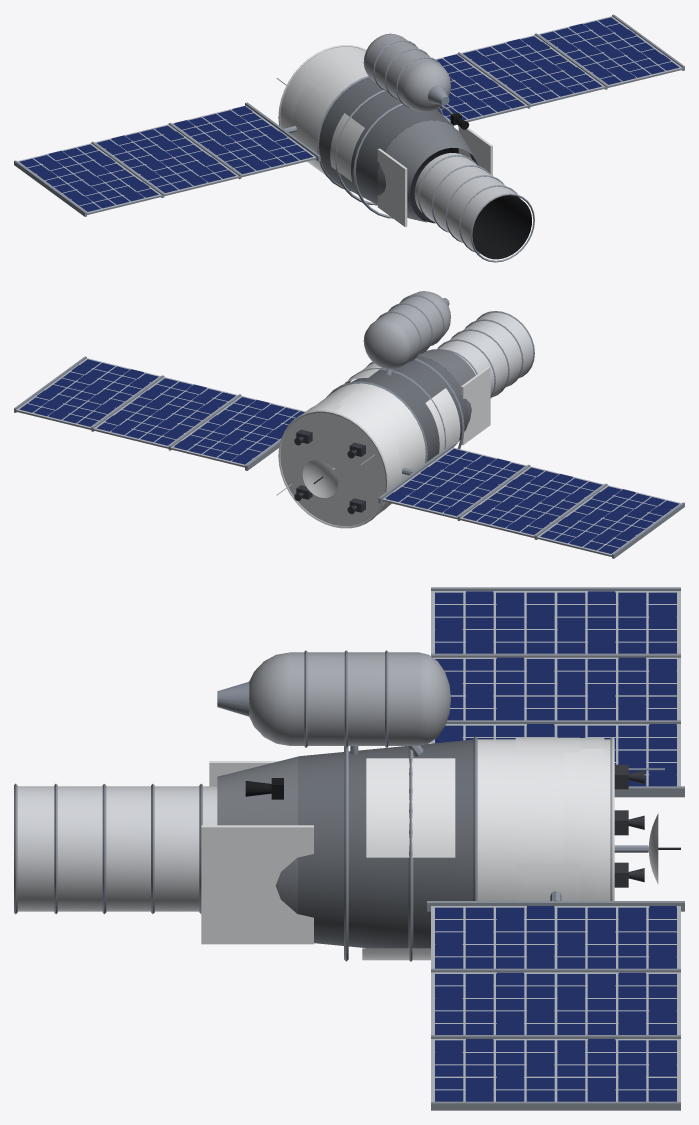
The model's file is resurs-dk1.glb.
The picture shows the model from 3 angles, top to bottom: view 1: azimuth 30°, elevation 25°; view 2: azimuth 150°, elevation 25°; view 3: azimuth 270°, elevation 25°; orthographic projection. The views are drawn at different scales.
Parts seen in each view (by area): view 1: body, solar-panel; view 2: body, solar-panel; view 3: body, solar-panel.
Boxes of the visible parts, x1=… form: body: x1=14, y1=14, x2=684, y2=262; solar-panel: x1=19, y1=17, x2=679, y2=211; body: x1=14, y1=291, x2=684, y2=558; solar-panel: x1=19, y1=359, x2=679, y2=553; body: x1=14, y1=587, x2=684, y2=1110; solar-panel: x1=435, y1=591, x2=676, y2=1101.
Bounding box in the file's own units: 15.14 × 4.06 × 8.32.
